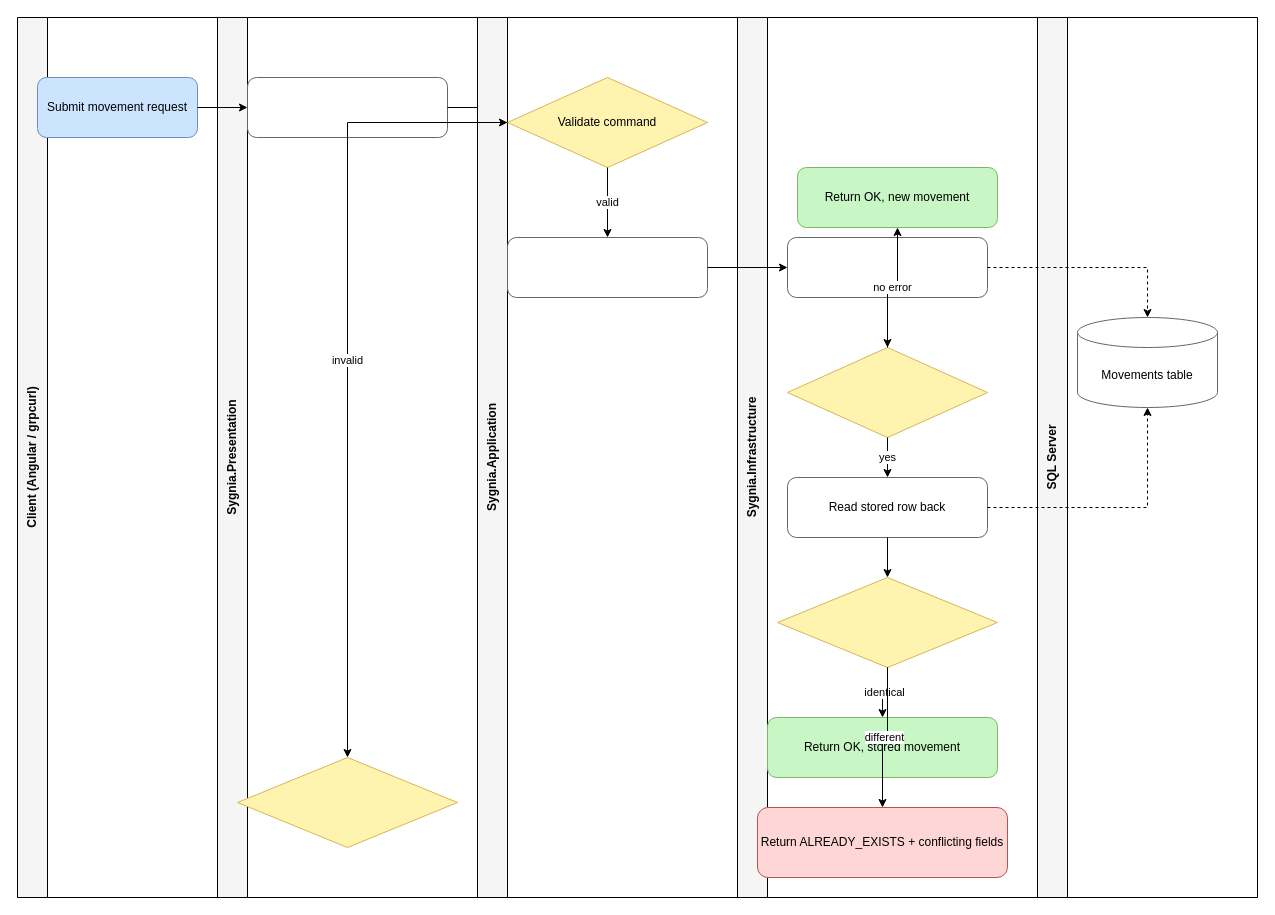
Some shapes in this 1275 by 915 pixel diagram are drawn without their labels. The centre of each missing label's shape, as x and y in pixels:
Amount/Currency/OccurredAt match?: (887,622)
Attempt INSERT: (887,267)
Call IMovementRepository.AddAsync: (607,267)
ErrorInterceptor catches unhandled?: (347,802)
gRPC service receives SubmitMovement: (347,107)
SQL error 2627/2601?: (887,392)
